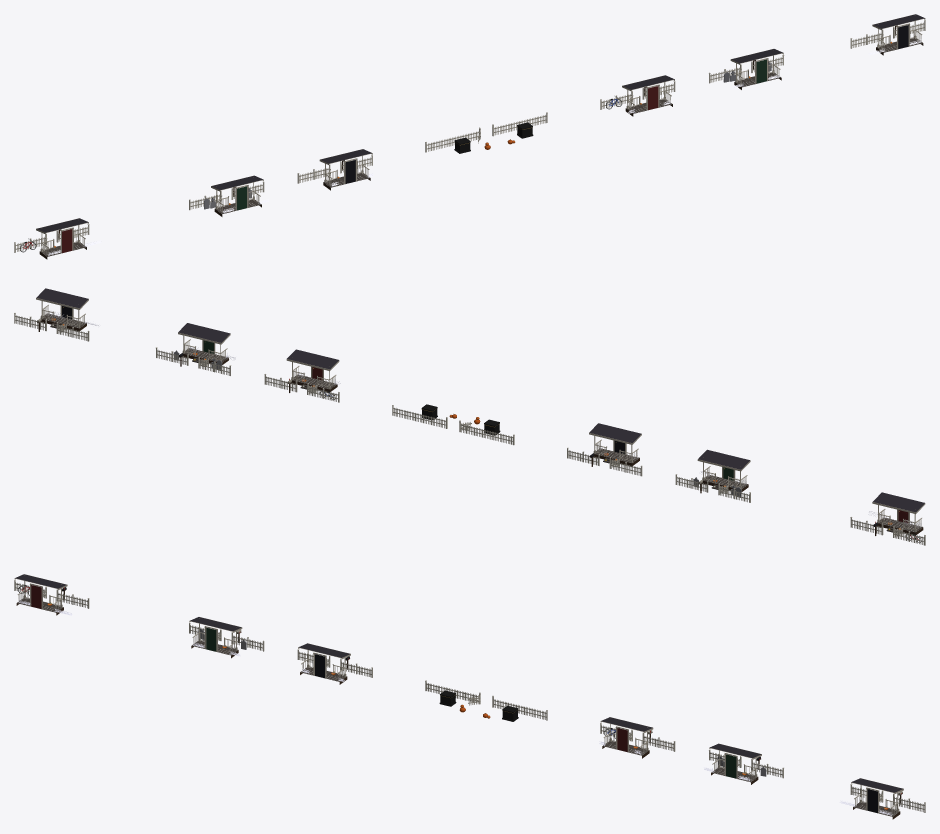
The model's file is hg-lane.glb.
3 views of the same model, one above another, from view 1: azimuth 30°, elevation 25°; view 2: azimuth 150°, elevation 25°; view 3: azimuth 330°, elevation 25° (orthographic).
Visible parts, largest first — view 1: hg-lane; view 2: hg-lane; view 3: hg-lane.
Boxes of the visible parts, x1=… form: hg-lane: x1=14, y1=14, x2=925, y2=259; hg-lane: x1=14, y1=288, x2=925, y2=545; hg-lane: x1=14, y1=574, x2=925, y2=819.
Size of the model in its own units: 96.43 by 2.8 by 3.55.
